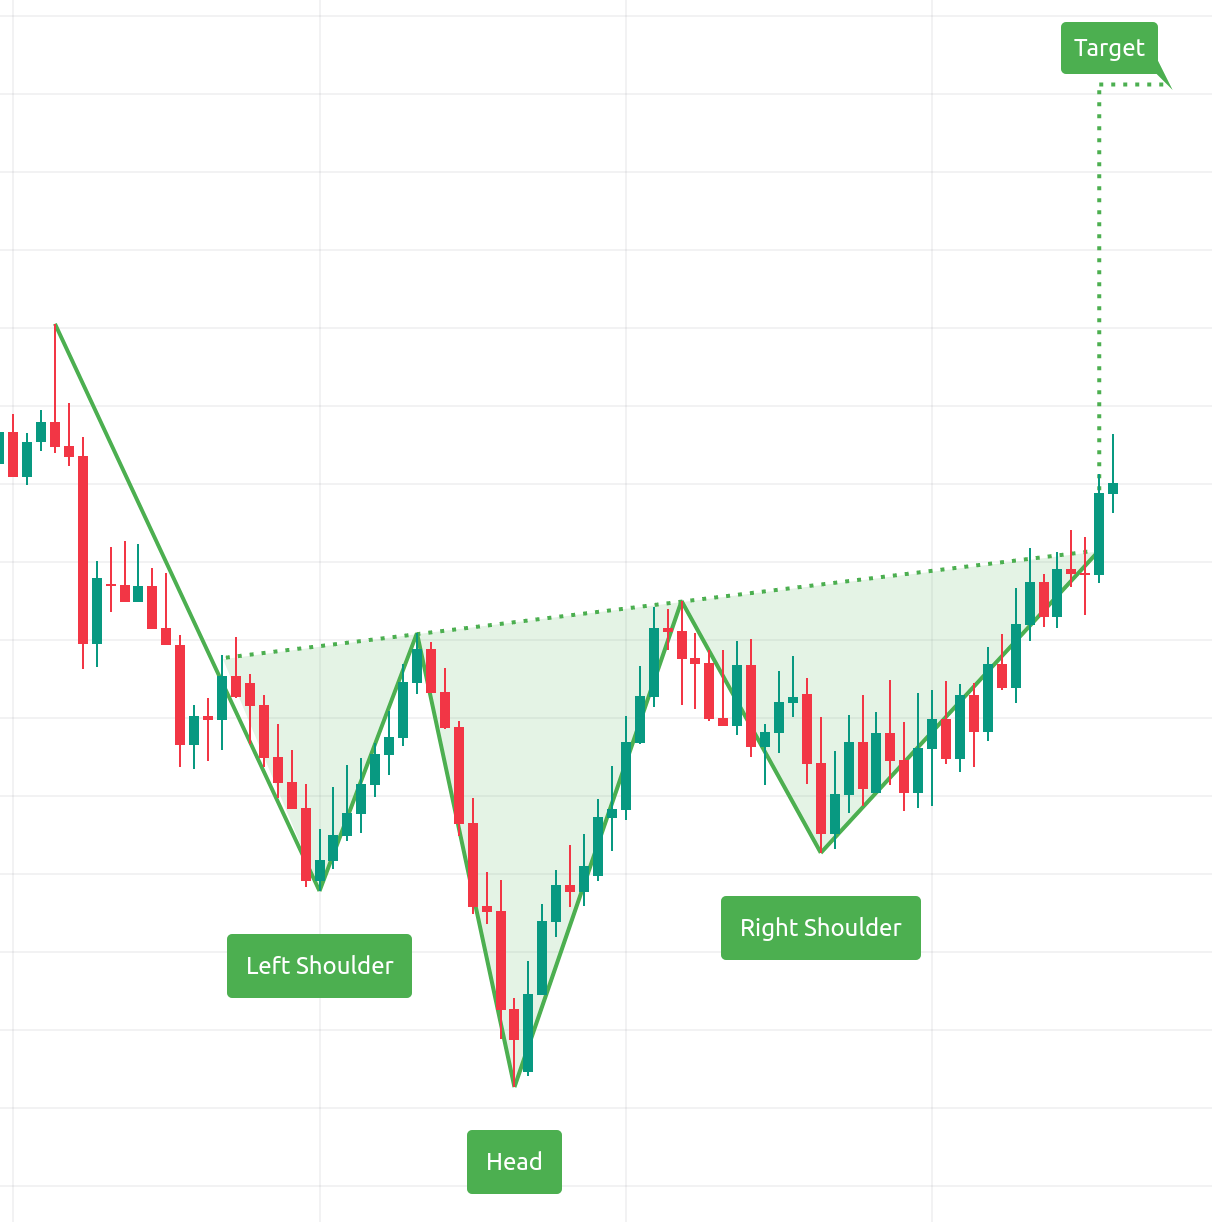H&S Pattern: (701, 211, 902, 417), (897, 471, 1097, 677)
Inverse H&S Pattern: (180, 580, 888, 1083)
